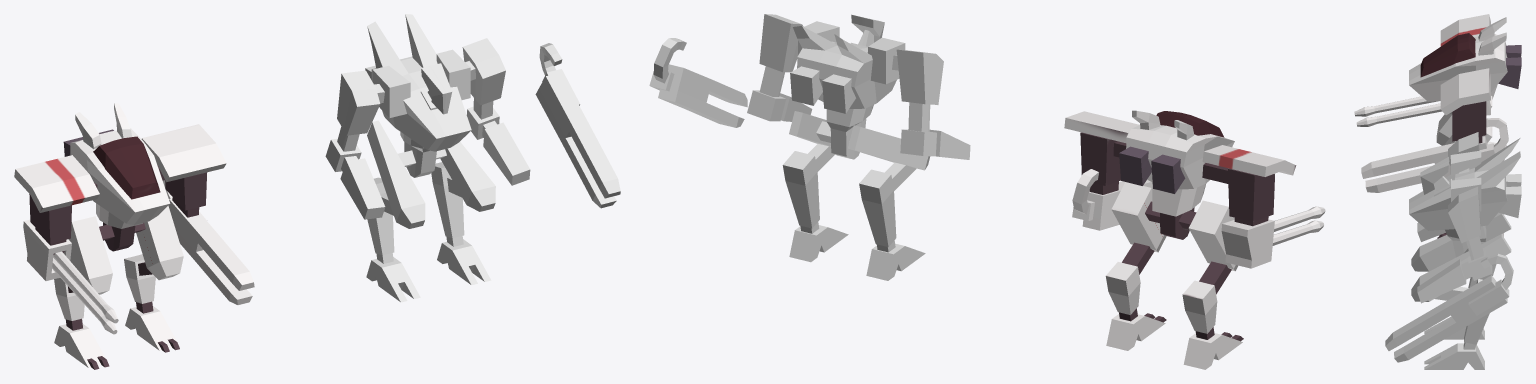
The model's file is FinalBossModel.fbx.
3 views of the same model, side by side, from view 1: azimuth 30°, elevation 25°; view 2: azimuth 150°, elevation 25°; view 3: azimuth 270°, elevation 25° (orthographic). The views are drawn at different scales.
Visible parts, largest first — view 1: Chest.001, Chest, Plane.015, Plane.014, Plane.010, Plane.001, Plane, Plane.008, Plane.016, Plane.009, Plane.005, Plane.002 (+12 smaller); view 2: Chest.001, Chest, Plane.014, Plane.001, Plane.010, Plane.015, Plane, Plane.009, Plane.002, Plane.005, Plane.012, Plane.017 (+11 smaller); view 3: Chest.001, Chest, Plane.015, Plane.010, Plane.008, Plane, Plane.016, Plane.009, Plane.011, Plane.013, Plane.001, Plane.014 (+6 smaller).
Part boxes in pixels (x1,y1,x2,y2): Chest.001: (365,14,471,151); Chest: (63,103,170,224); Plane.015: (535,43,620,208); Plane.014: (325,70,385,219); Plane.010: (462,38,530,185); Plane.001: (14,155,99,254); Plane: (141,124,226,217); Plane.008: (163,180,254,304); Plane.016: (367,120,425,228); Plane.009: (23,219,118,334); Plane.005: (68,216,114,294); Plane.002: (134,205,183,280); Chest.001: (790,21,905,113); Chest: (1119,110,1234,193); Plane.014: (867,49,970,159); Plane.001: (1202,145,1296,226); Plane.010: (747,14,834,121); Plane.015: (649,38,747,127); Plane: (1064,111,1139,194); Plane.009: (1221,206,1325,268); Plane.002: (1111,182,1166,274); Plane.005: (1178,200,1237,294); Plane.012: (782,151,819,233); Plane.017: (859,169,896,252); Chest.001: (1409,138,1521,230); Chest: (1409,17,1521,101); Plane.015: (1385,253,1513,362); Plane.010: (1417,186,1492,303); Plane.008: (1361,118,1508,192); Plane: (1440,68,1490,143); Plane.016: (1411,212,1511,271); Plane.009: (1354,85,1497,126); Plane.011: (1411,234,1511,301); Plane.013: (1424,343,1484,369); Plane.001: (1440,14,1490,46); Plane.014: (1417,132,1479,241).
Bounding box in the file's own units: 6894 × 2787 × 2056.
